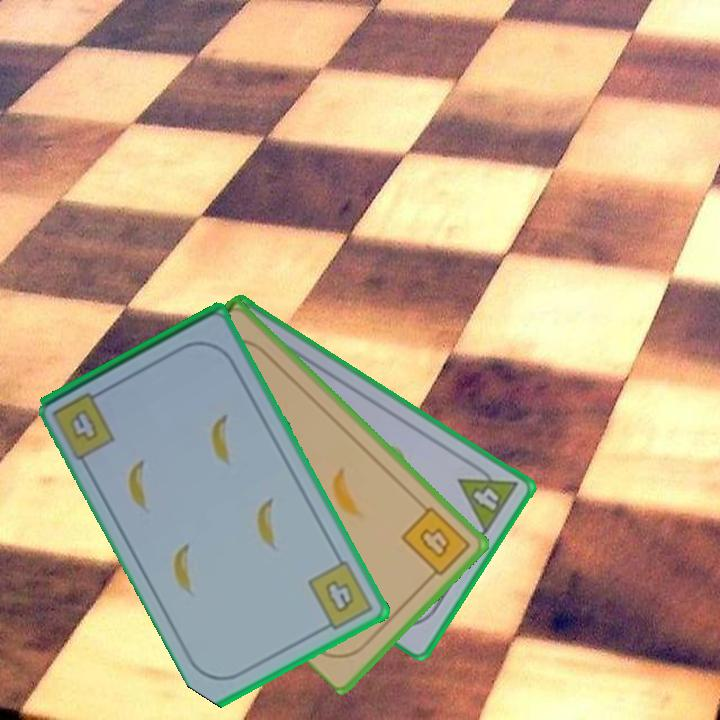4b: (397, 503, 474, 584), (304, 557, 377, 635), (70, 409, 99, 441)
4p: (455, 457, 521, 537)
